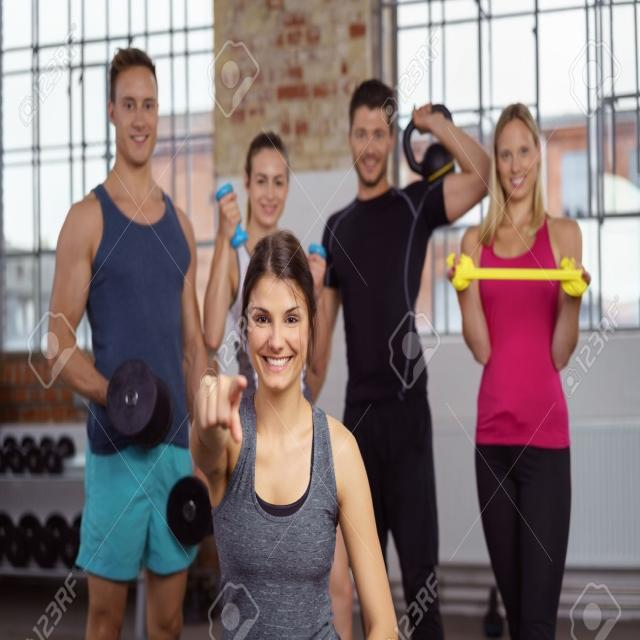body: (286, 72, 500, 640), (43, 43, 215, 639), (187, 225, 404, 639), (441, 95, 595, 639), (201, 130, 331, 409)
